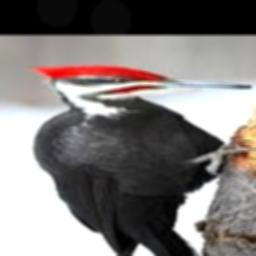Woodpecker: (35, 65, 256, 256)
